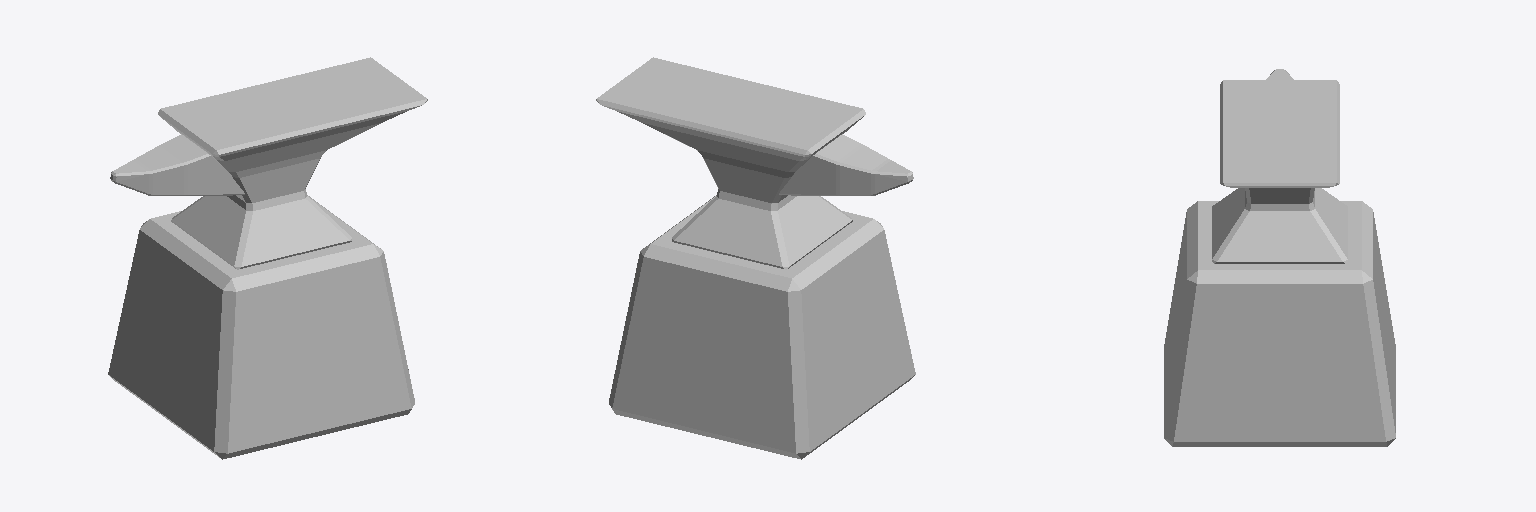
Rendered from Anvil.obj.
The picture shows the model from 3 angles: view 1: azimuth 30°, elevation 25°; view 2: azimuth 150°, elevation 25°; view 3: azimuth 270°, elevation 25°; orthographic projection.
Visible parts, largest first — view 1: Anvil_Cube.002; view 2: Anvil_Cube.002; view 3: Anvil_Cube.002.
Boxes of the visible parts, box(x1,y1,x2,y2) form: Anvil_Cube.002: box(108, 57, 427, 459); Anvil_Cube.002: box(596, 57, 915, 459); Anvil_Cube.002: box(1164, 69, 1395, 446).
Size of the model in its own units: 2.35 by 2.22 by 1.64.